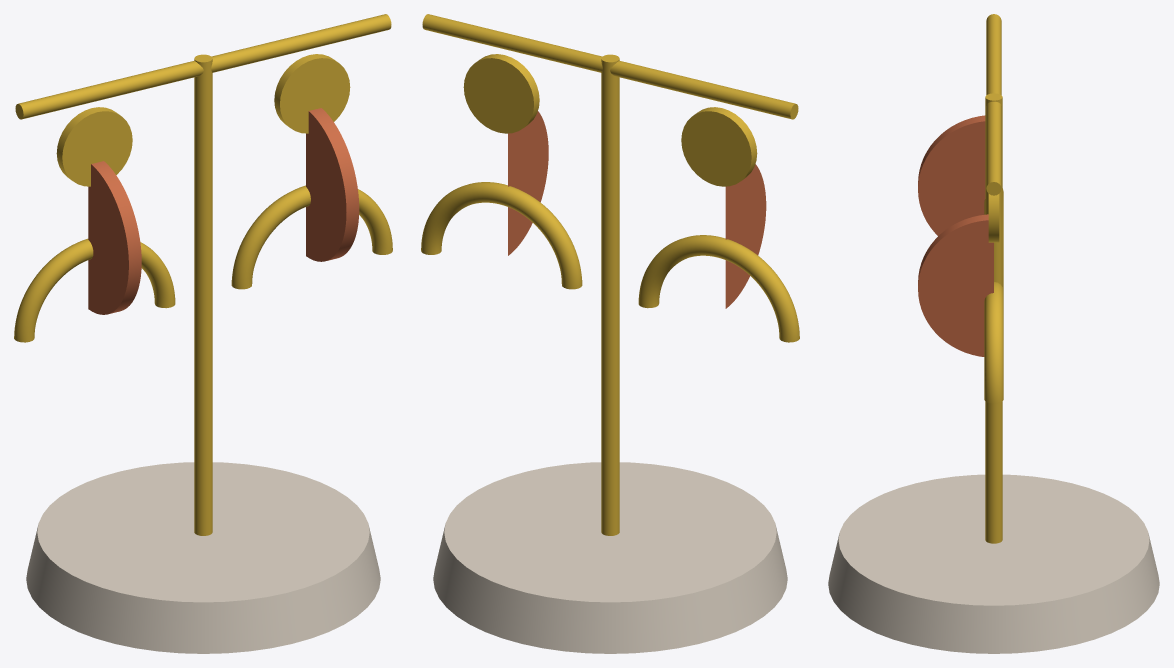
Rendered from handmade_earrings.glb.
The picture shows the model from 3 angles, left to right: view 1: azimuth 30°, elevation 25°; view 2: azimuth 150°, elevation 25°; view 3: azimuth 270°, elevation 25°; orthographic projection. The views are drawn at different scales.
Bounding box in the file's own units: 1.18 × 1.56 × 0.96.
